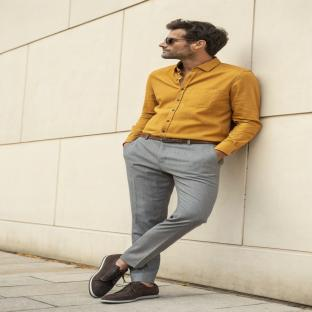Human: (89, 19, 261, 303)
